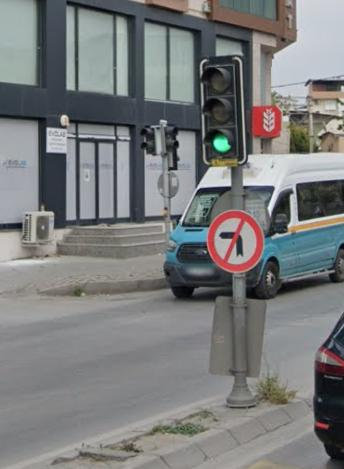greenlight: (200, 62, 243, 168)
leftturnsareforbidden: (206, 212, 265, 272)
